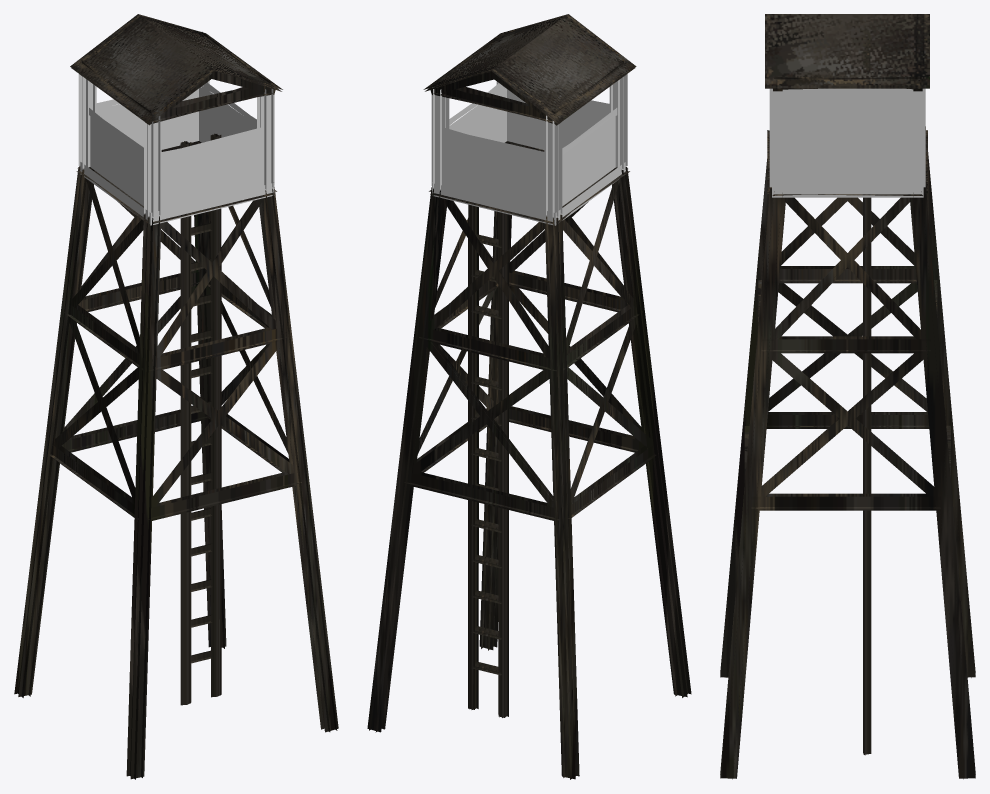
The model's file is large_tower_cgtrader_watchtower_proposed.glb.
3 renders of one model, left to right at view 1: azimuth 30°, elevation 25°; view 2: azimuth 150°, elevation 25°; view 3: azimuth 270°, elevation 25°, orthographic. The views are drawn at different scales.
Visible parts, largest first — view 1: part_0, part_1; view 2: part_0, part_1; view 3: part_0, part_1.
Part boxes in pixels (box(x1,y1,x2,y2)): part_0: box(14, 14, 338, 779); part_1: box(78, 74, 274, 225); part_0: box(367, 14, 691, 779); part_1: box(431, 74, 627, 225); part_0: box(720, 14, 975, 779); part_1: box(769, 88, 925, 197).
Size of the model in its own units: 1 by 3.08 by 0.9996.
1 material, 1 textured.
